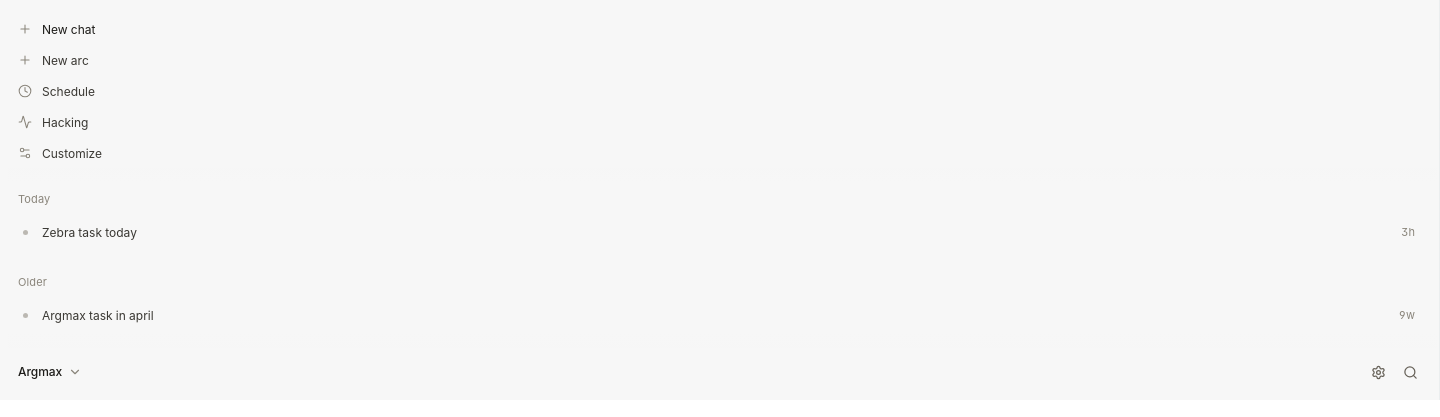
Sidebar — date (sessions) view mode › toggles a date bucket by clicking the row, not just the chevron
Expected: the button "Zebra task today 3h" is shown, [8,217,1425,247]
Click the text "Today" at [34, 199], box [18,192,50,206]
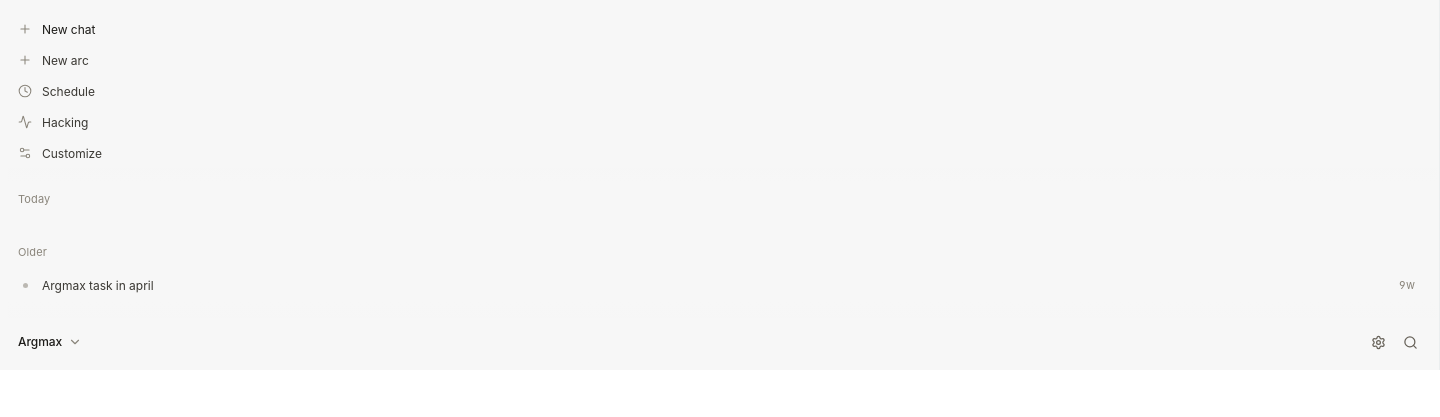
Expected: the button "Zebra task today" is gone
# Clicking the row again expands it back.
Click the text "Today" at [34, 199], box [18,192,50,206]
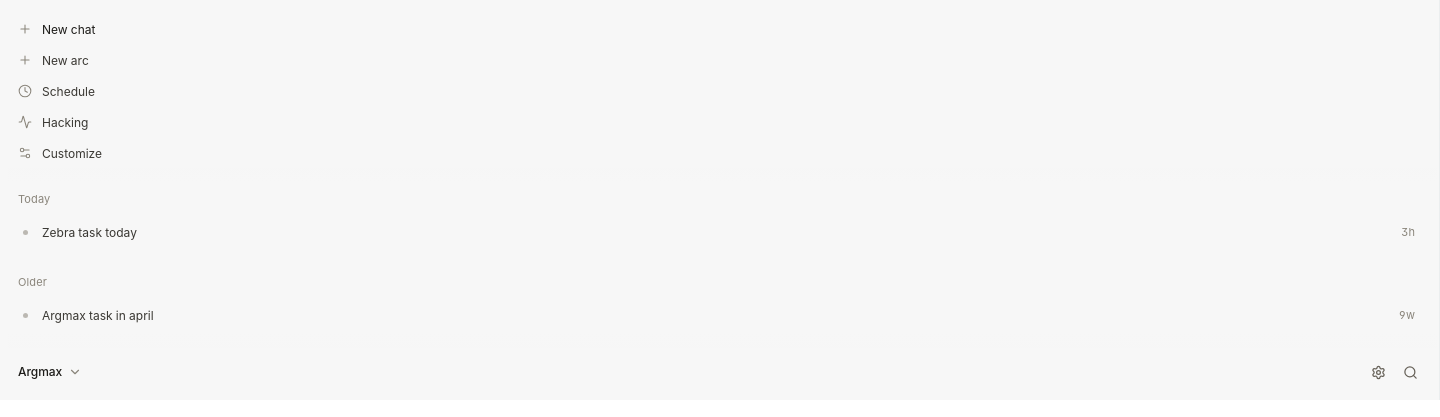
Expected: the button "Zebra task today 3h" is shown, [8,217,1425,247]
